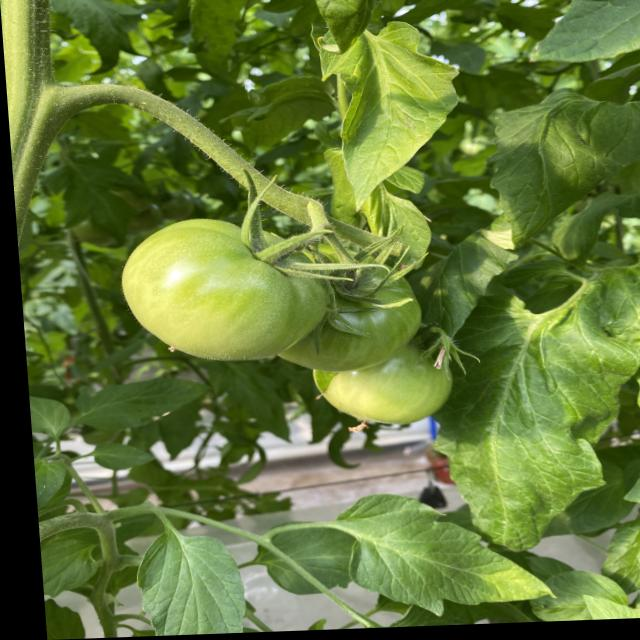yesil: (124, 184, 474, 437)
